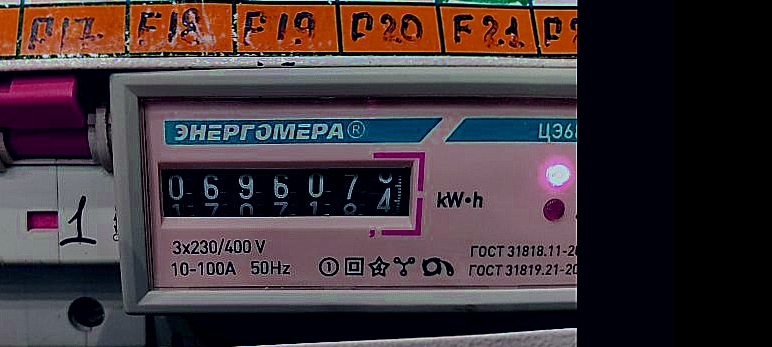0: (165, 171, 185, 201), (306, 169, 325, 199)
4: (373, 185, 392, 213)
6: (199, 170, 221, 200), (271, 170, 290, 199)
7: (341, 170, 358, 200)
9: (236, 171, 254, 200)
screen: (141, 144, 426, 235)
